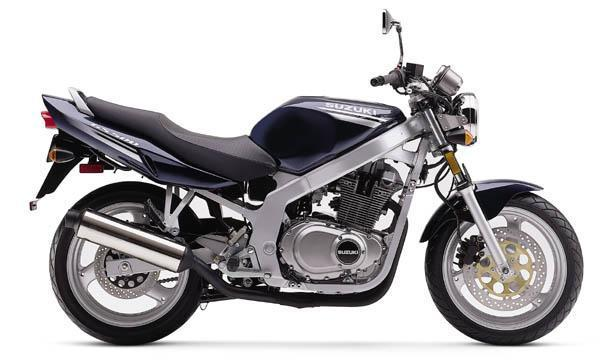motorcycle: (13, 3, 611, 356)
